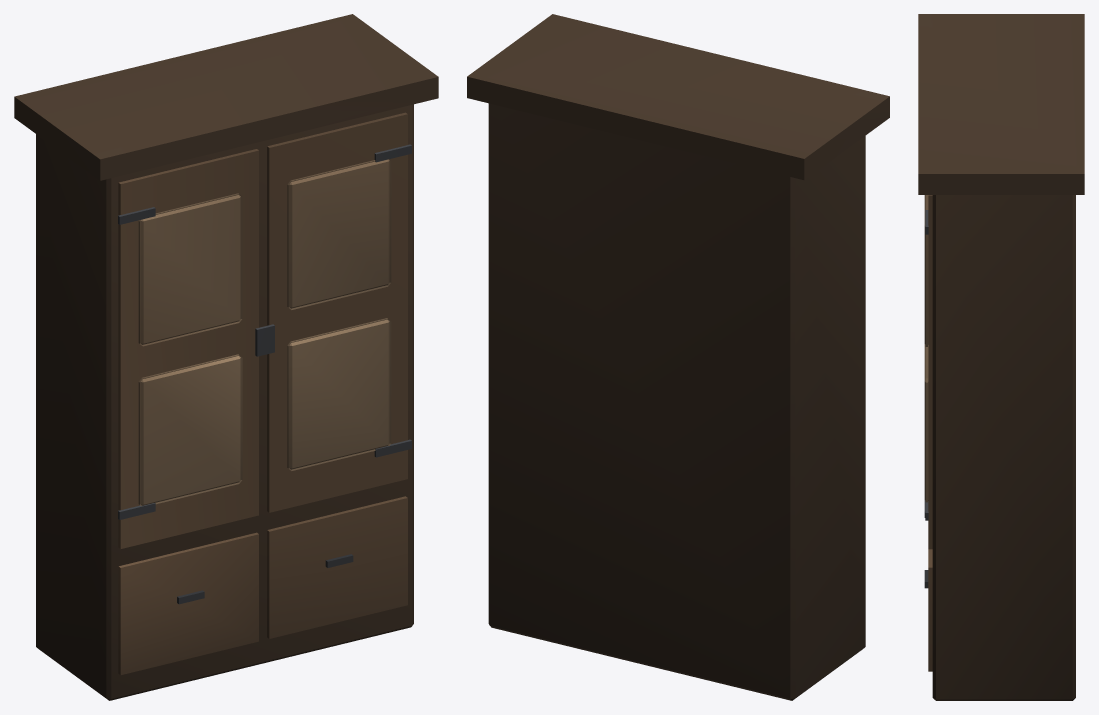
File: ph_int_church_archive.glb
The picture shows the model from 3 angles, left to right: view 1: azimuth 30°, elevation 25°; view 2: azimuth 150°, elevation 25°; view 3: azimuth 270°, elevation 25°; orthographic projection. The views are drawn at different scales.
Parts seen in each view (by area): view 1: ph_int_church_archive; view 2: ph_int_church_archive; view 3: ph_int_church_archive.
Boxes of the visible parts, <box> form: ph_int_church_archive: <box>14,14,438,700</box>; ph_int_church_archive: <box>467,14,889,700</box>; ph_int_church_archive: <box>918,14,1084,700</box>.
Size of the model in its own units: 1.32 by 2.06 by 0.58.
